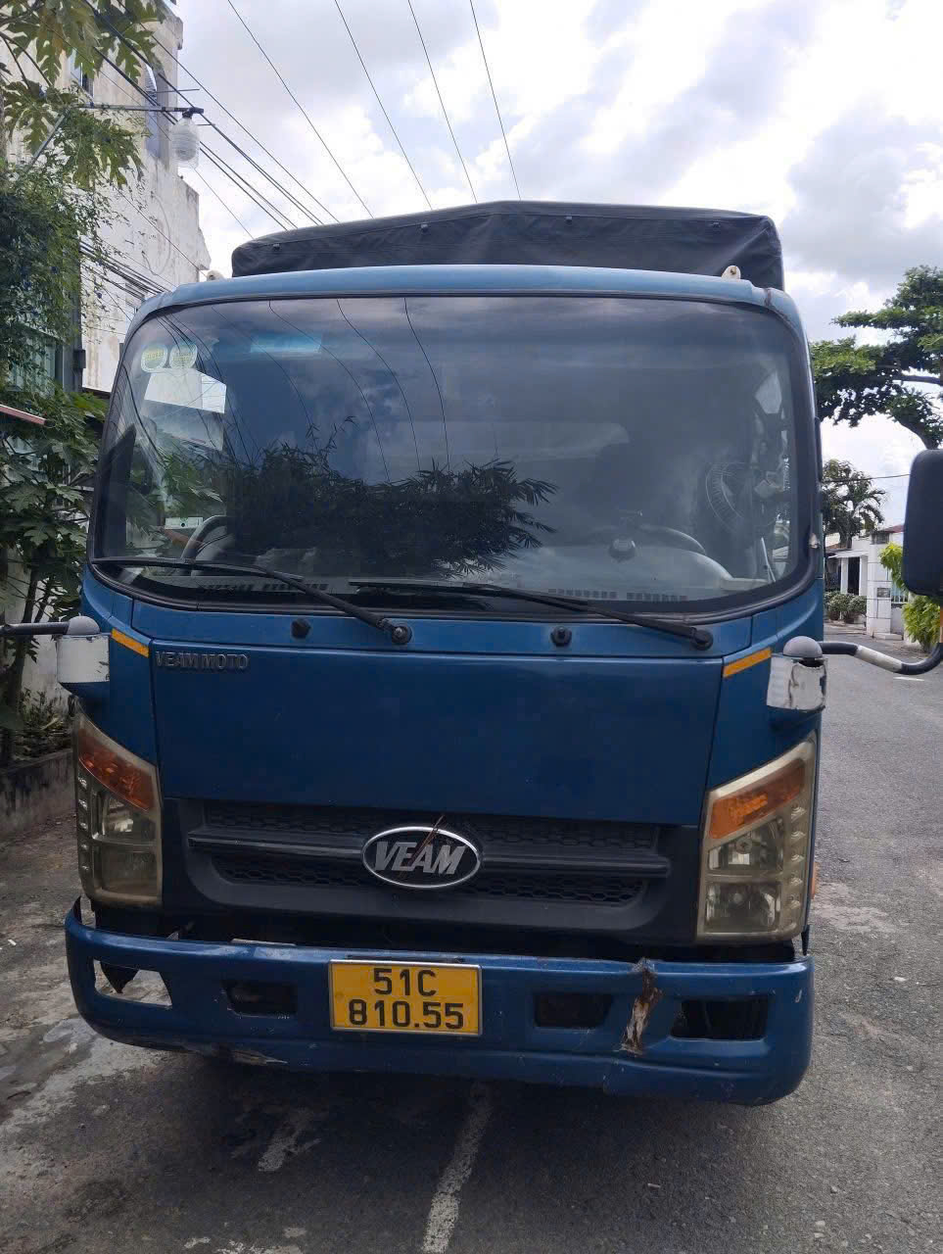Bien-so: (333, 963, 488, 1037)
